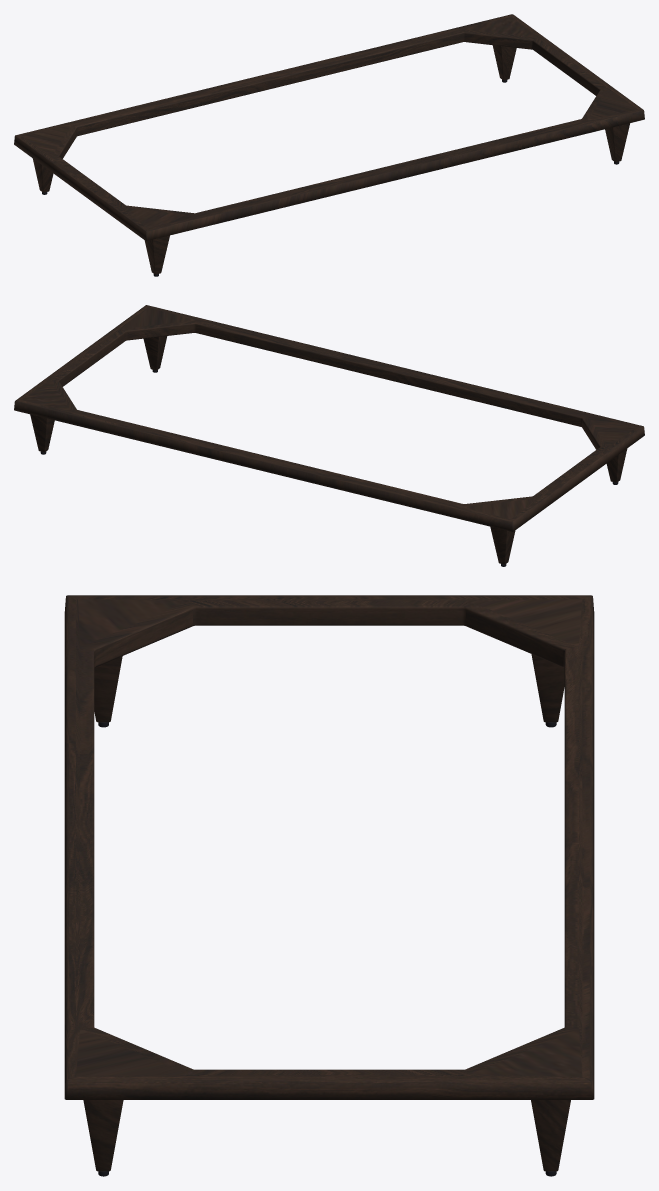
Rendered from Sofa_Legs_Square.glb.
3 views of the same model, one above another, from view 1: azimuth 30°, elevation 25°; view 2: azimuth 150°, elevation 25°; view 3: azimuth 270°, elevation 25° (orthographic). The views are drawn at different scales.
Visible parts, largest first — view 1: Sofa_Legs_Square; view 2: Sofa_Legs_Square; view 3: Sofa_Legs_Square.
Boxes of the visible parts, <box> form: Sofa_Legs_Square: <box>14,14,644,276</box>; Sofa_Legs_Square: <box>14,305,644,566</box>; Sofa_Legs_Square: <box>64,595,594,1176</box>.
Size of the model in its own units: 297 by 31.78 by 137.
Materials: 2 (1 with a texture image).
